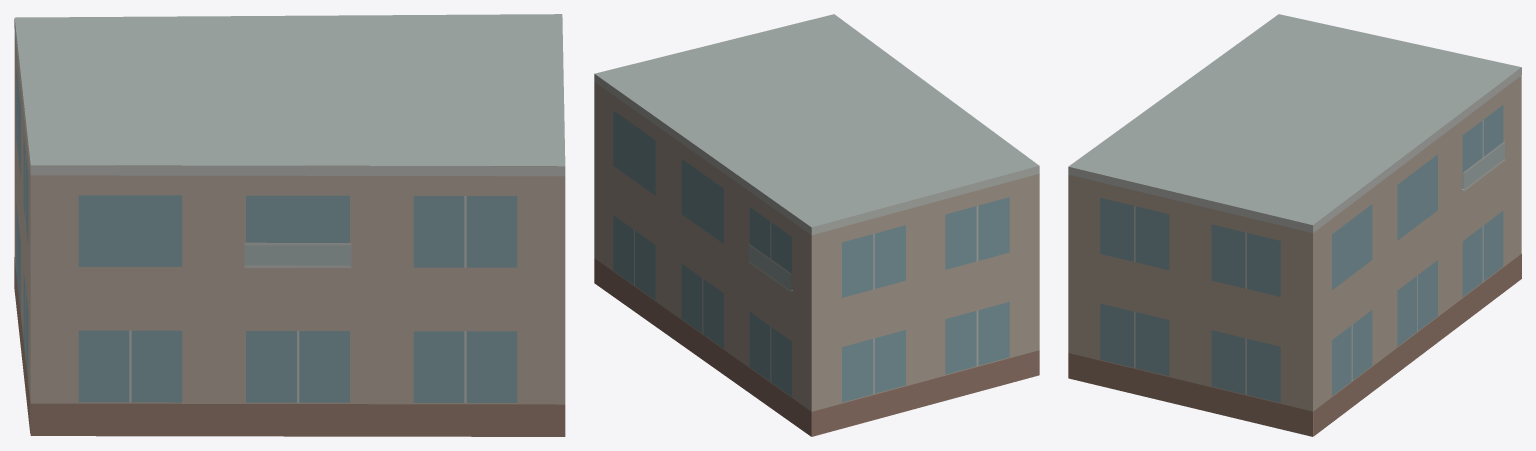
Rendered from survey-upis-32674456.glb.
The picture shows the model from 3 angles, left to right: view 1: azimuth 30°, elevation 25°; view 2: azimuth 150°, elevation 25°; view 3: azimuth 270°, elevation 25°; orthographic projection. The views are drawn at different scales.
Visible parts, largest first — view 1: survey-upis-32674456.tmp; view 2: survey-upis-32674456.tmp; view 3: survey-upis-32674456.tmp.
Part boxes in pixels (box(x1,y1,x2,y2)): survey-upis-32674456.tmp: box(14, 14, 565, 436); survey-upis-32674456.tmp: box(594, 14, 1039, 436); survey-upis-32674456.tmp: box(1068, 14, 1521, 436).
Bounding box in the file's own units: 13.92 × 6.5 × 12.63.
